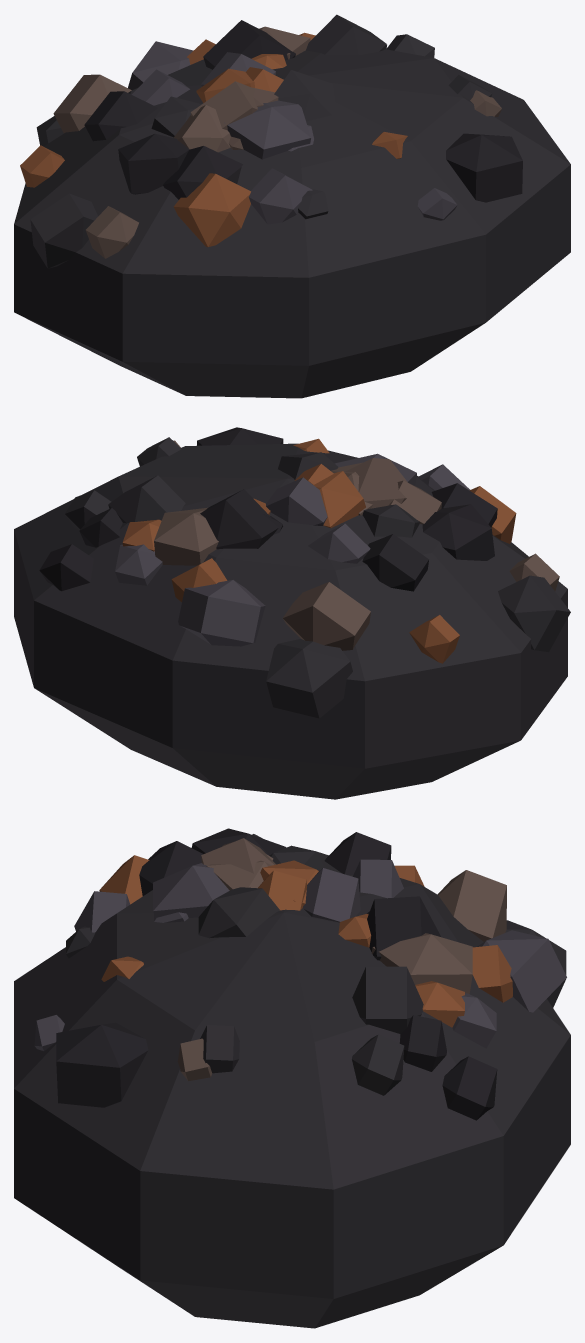
File: soegol_slag_heap.glb
3 views of the same model, one above another, from view 1: azimuth 30°, elevation 25°; view 2: azimuth 150°, elevation 25°; view 3: azimuth 270°, elevation 25° (orthographic). The views are drawn at different scales.
Visible parts, largest first — view 1: soegol_slag_heap; view 2: soegol_slag_heap; view 3: soegol_slag_heap.
Part boxes in pixels (x1,y1,x2,y2): soegol_slag_heap: [14, 14, 570, 398]; soegol_slag_heap: [14, 427, 570, 799]; soegol_slag_heap: [14, 828, 570, 1328].
Size of the model in its own units: 3.99 by 2.28 by 2.98.
